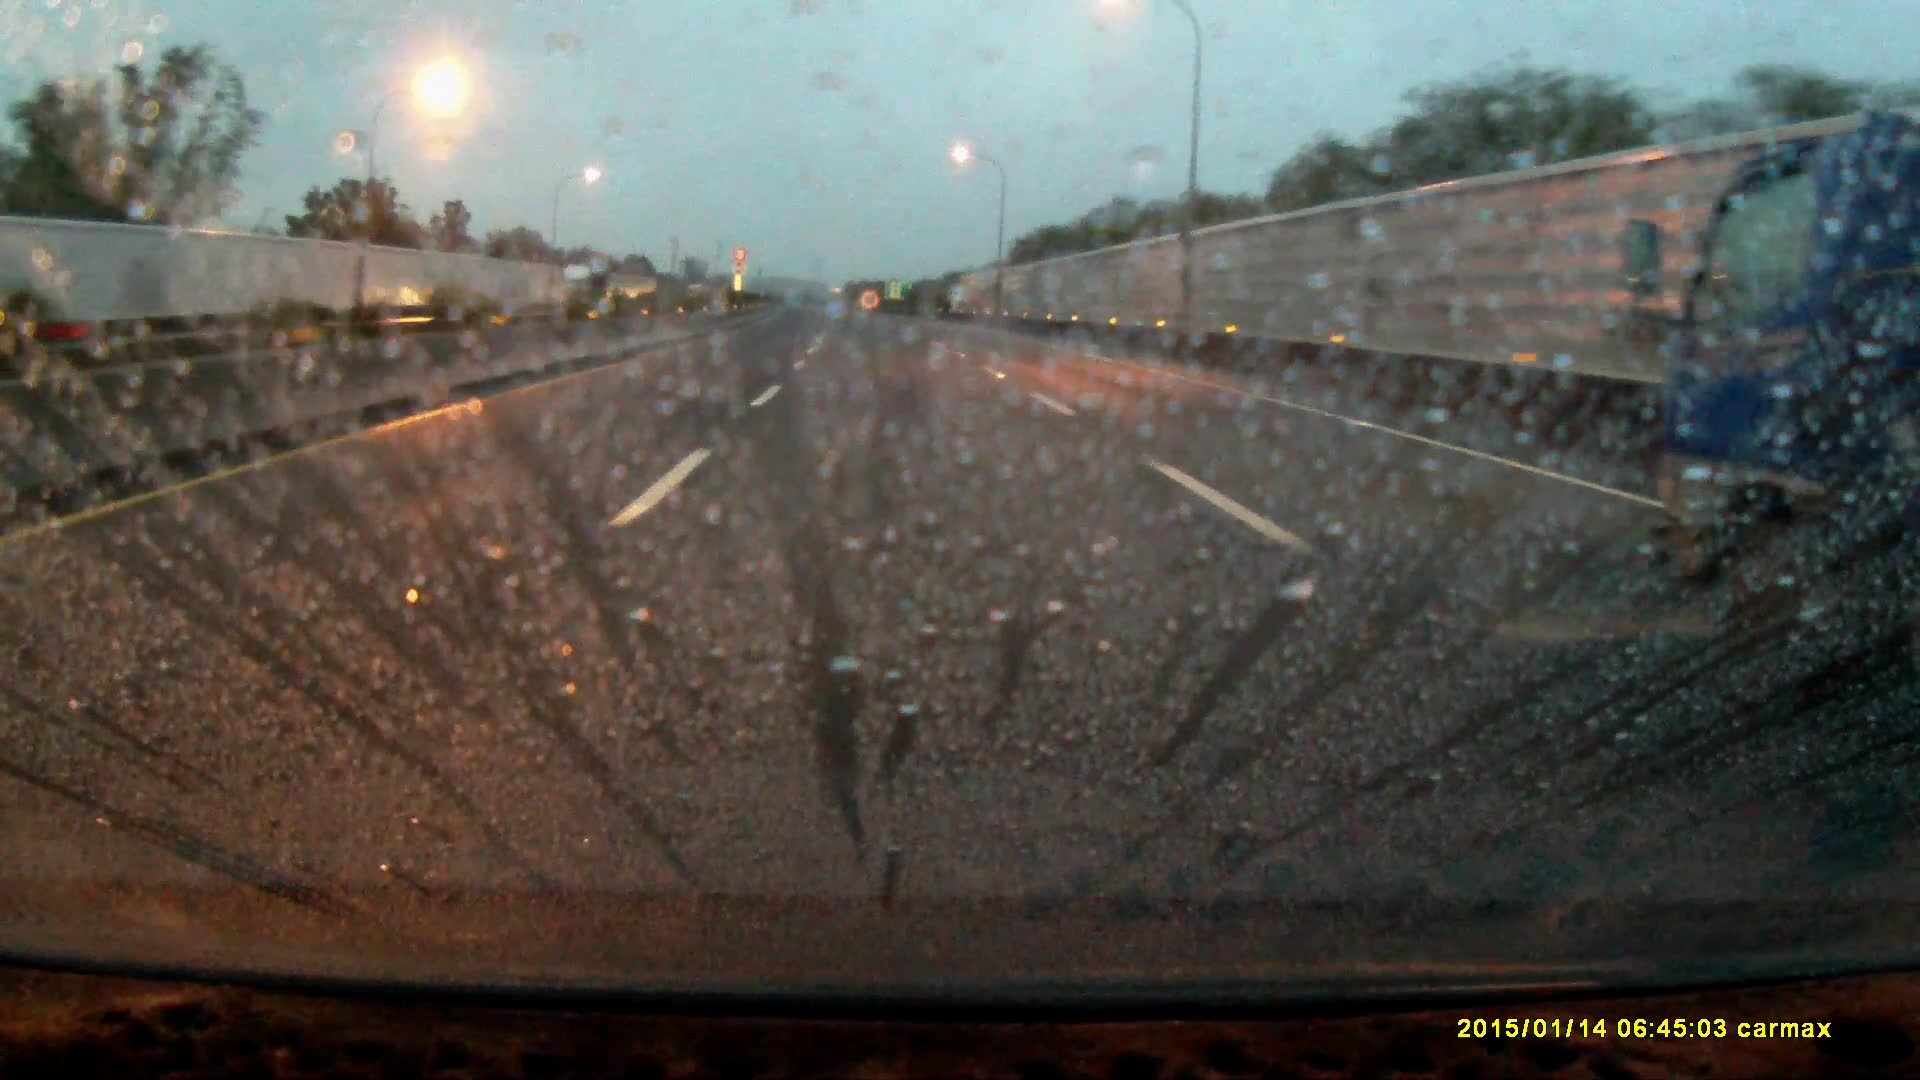vehicle: (1631, 133, 1920, 608), (558, 266, 605, 313)
